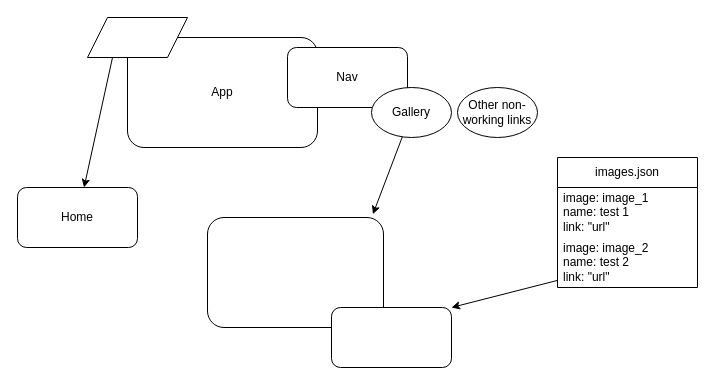
Some shapes in this 715 by 385 pixel diagram are drawn without their labels. Each missing label, with the centre of its shape:
Image: (x=391, y=337)
Image Gallery: (x=295, y=272)
Logo: (x=137, y=37)
